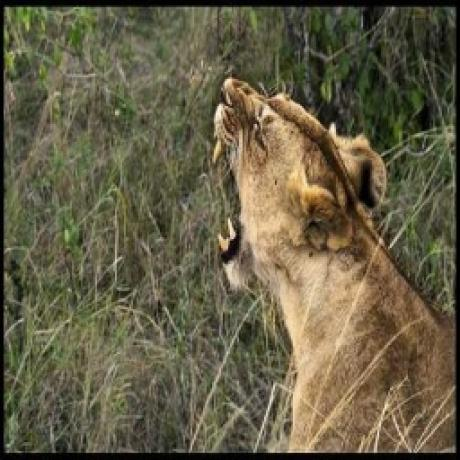Lion: (190, 70, 460, 460)
